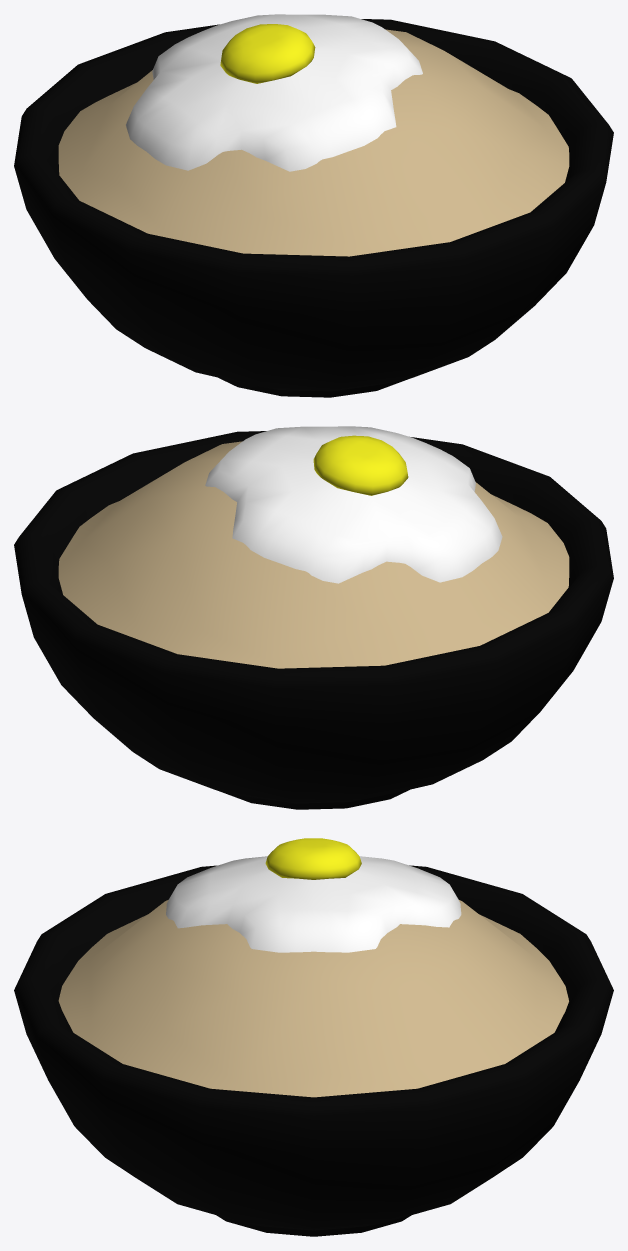
Rendered from ASFTR_Bowl_RiceEgg.fbx.
3 renders of one model, top to bottom at view 1: azimuth 30°, elevation 25°; view 2: azimuth 150°, elevation 25°; view 3: azimuth 270°, elevation 25°, orthographic.
Parts seen in each view (by area): view 1: ASFTR_Bowl_RiceEgg; view 2: ASFTR_Bowl_RiceEgg; view 3: ASFTR_Bowl_RiceEgg.
Part boxes in pixels (x1,y1,x2,y2): ASFTR_Bowl_RiceEgg: (14, 14, 613, 397); ASFTR_Bowl_RiceEgg: (14, 426, 613, 809); ASFTR_Bowl_RiceEgg: (14, 838, 613, 1236).
Bounding box in the file's own units: 60.78 × 35.67 × 60.78.
